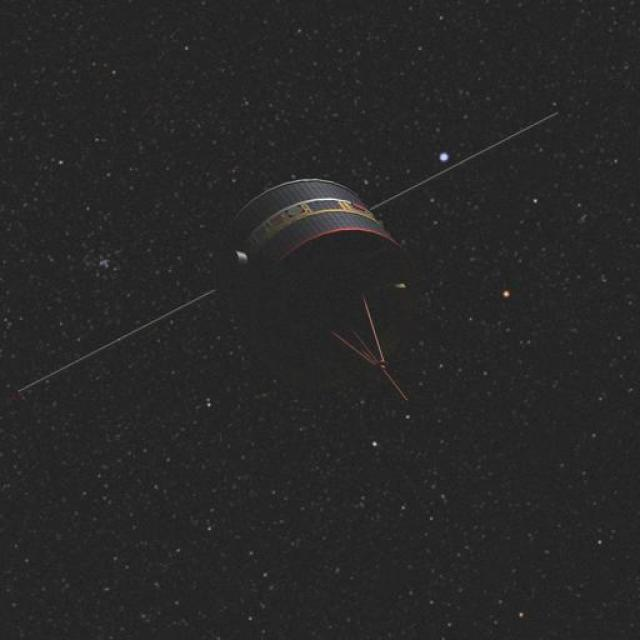double_start: (215, 155, 409, 413)
